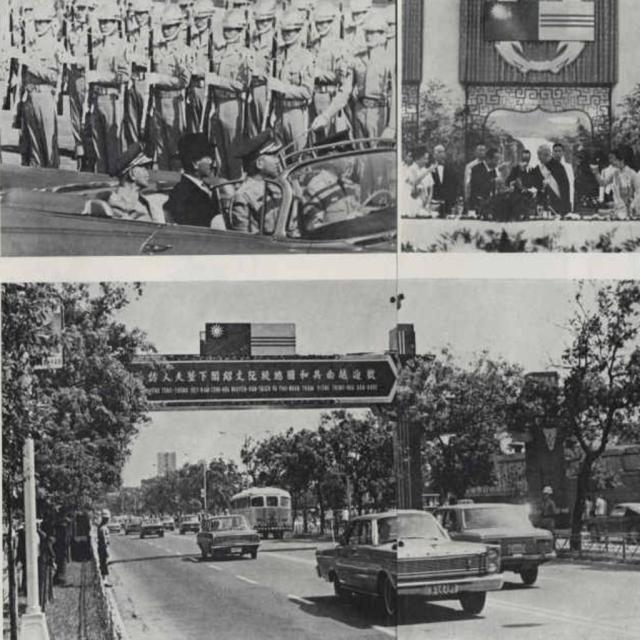car: (316, 509, 506, 614)
